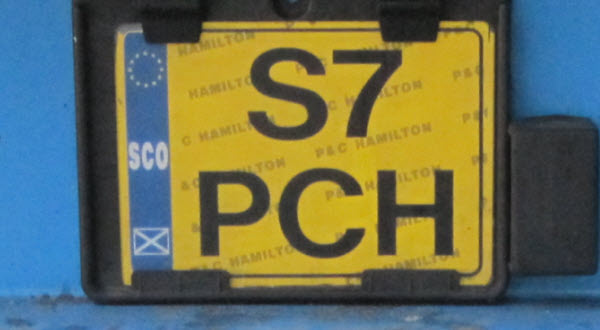license_plate: (114, 20, 495, 287)
